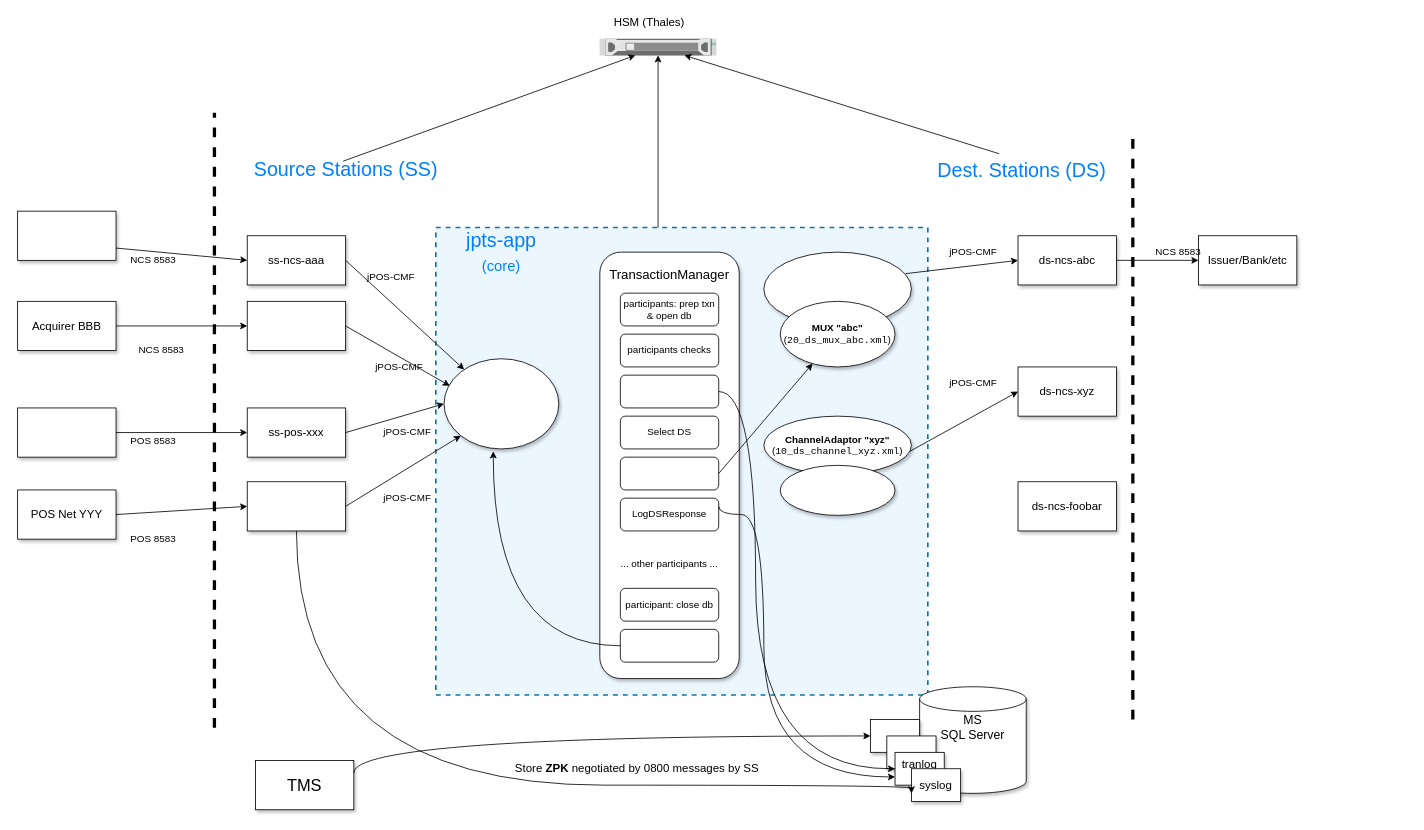
This 1424x830 diagram has some shape labels left out. The centre of each missing label's shape, as x and y in pixels:
Acquirer AAA: (67,236)
ChannelAdaptor "abc" ( 10_ds_channel_ abc.xml ): (838,290)
CreateTranLog: (669,391)
MUX "xyz" ( 20_ds_mux_ xyz.xml ): (838,491)
POS Net XXX: (67,433)
QServer ( 50_core_server.xml ) port: 9998: (502,405)
QueryHost: (669,473)
SendResponse: (669,645)
ss-ncs-bbb: (297,326)
ss-pos-yyy: (297,507)
